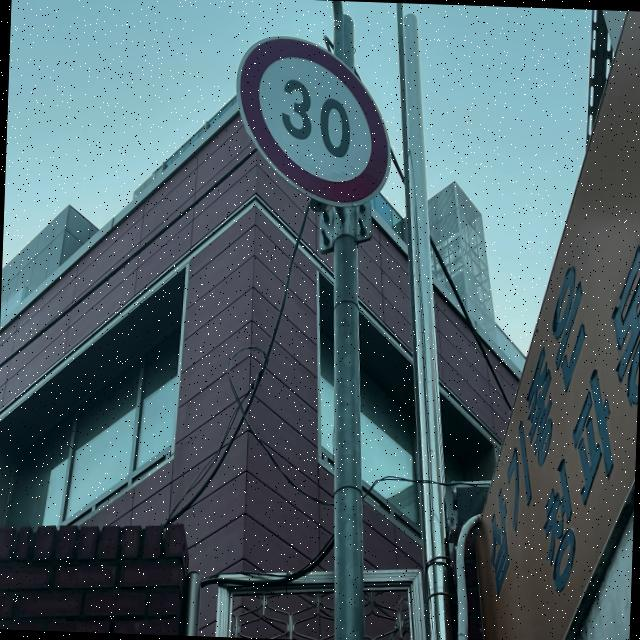Ograniczenie predkosci do 30: (234, 34, 393, 208)
